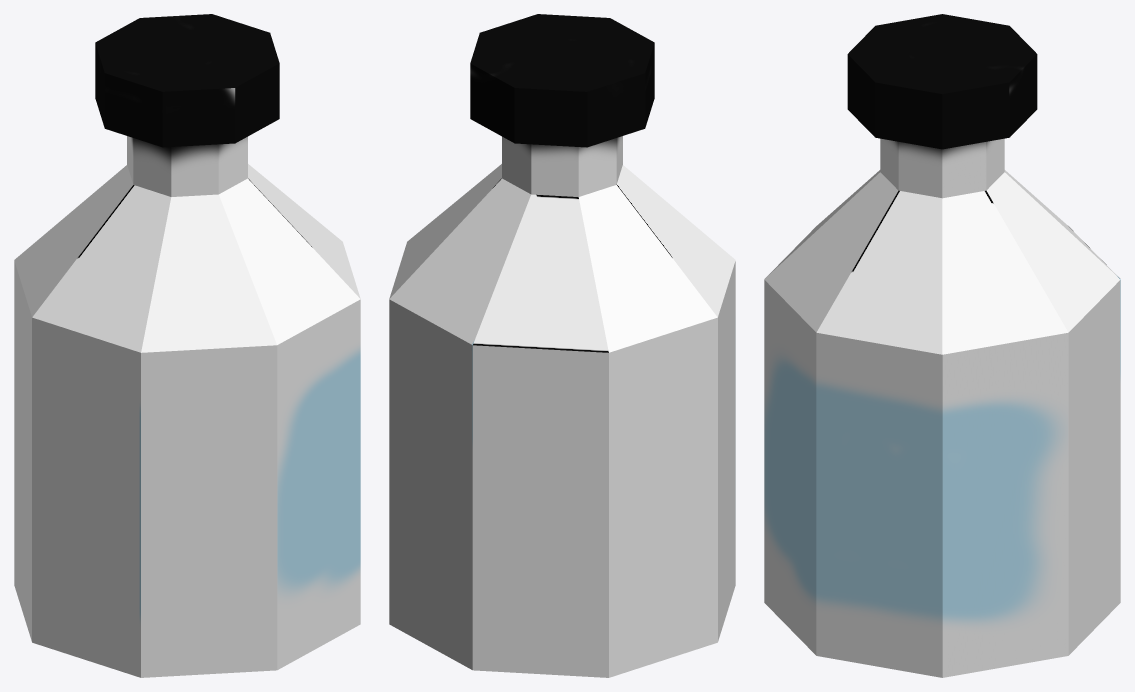
The model's file is bottle.dae.
3 views of the same model, side by side, from view 1: azimuth 30°, elevation 25°; view 2: azimuth 150°, elevation 25°; view 3: azimuth 270°, elevation 25° (orthographic).
Visible parts, largest first — view 1: Cylinder; view 2: Cylinder; view 3: Cylinder.
Boxes of the visible parts, bbox=[...] form: Cylinder: bbox=[14, 14, 360, 677]; Cylinder: bbox=[389, 14, 735, 677]; Cylinder: bbox=[764, 14, 1120, 677].
Bounding box in the file's own units: 0.7201 × 0.7201 × 1.22.
Materials: 1 (1 with a texture image).
